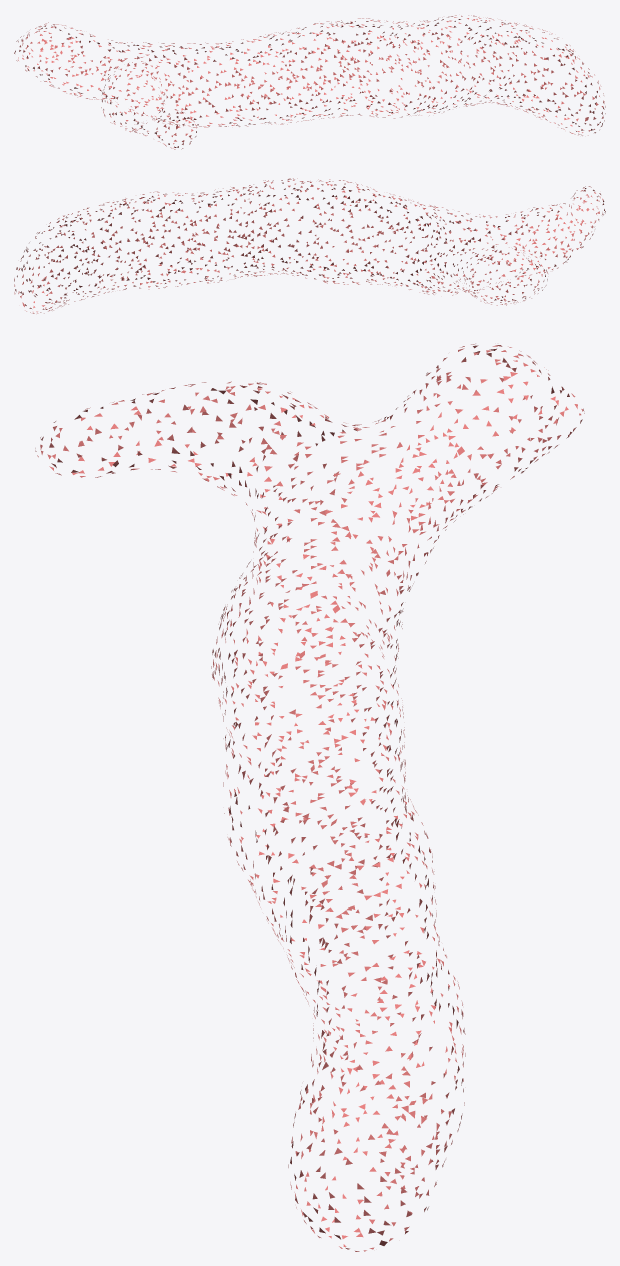
File: morph_000.glb
The picture shows the model from 3 angles, top to bottom: view 1: azimuth 30°, elevation 25°; view 2: azimuth 150°, elevation 25°; view 3: azimuth 270°, elevation 25°; orthographic projection. The views are drawn at different scales.
Bounding box in the file's own units: 123 × 43.49 × 53.4.
